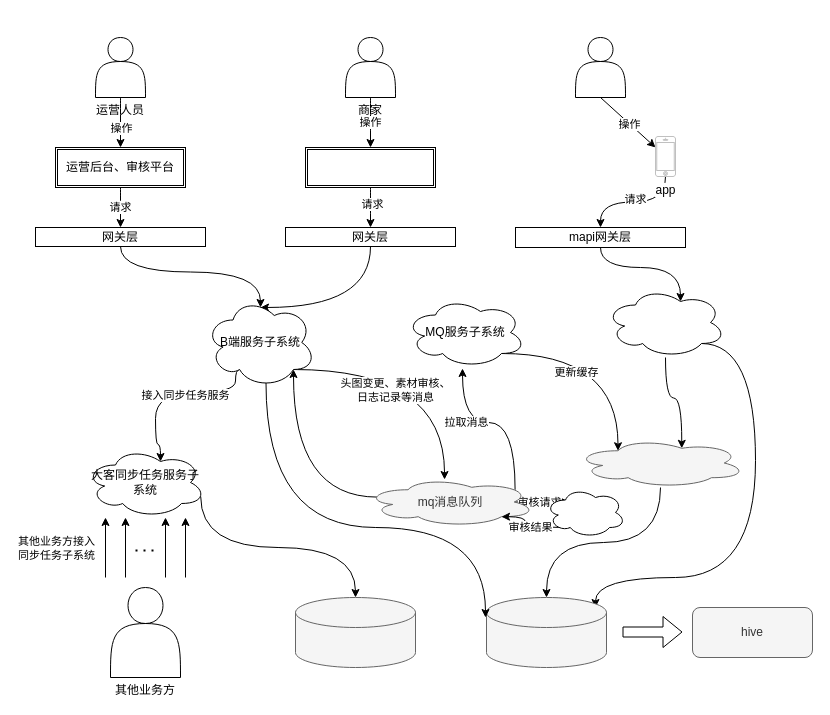
Image size: 830x715. Some labels were removed from this diagram. Here are the shapes that lost their labels. From the top down, the centre of each, then its label:
the point at 600,67: 顾客
the point at 370,167: 店铺装修管理平台
the point at 665,322: C端服务子系统
the point at 660,463: Squirrel缓存
the point at 585,512: 审核服务
the point at 355,632: 任务同步数据库
the point at 546,632: 头图相册视频库
